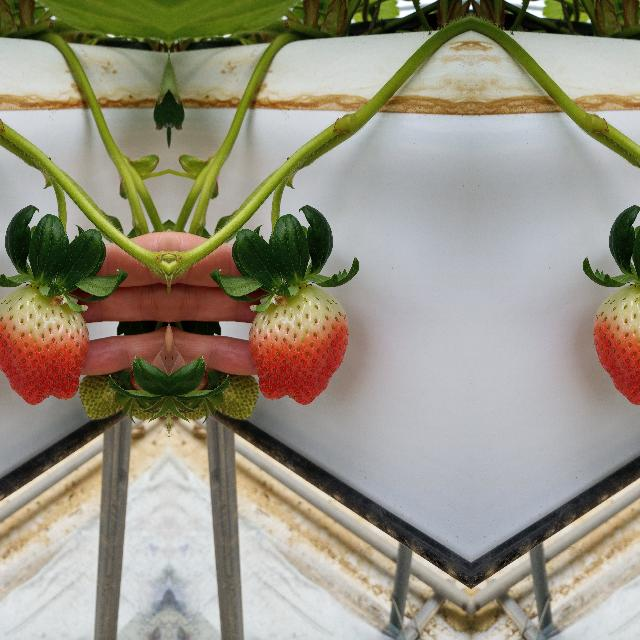Health_75: (248, 284, 348, 404), (0, 283, 88, 404), (592, 283, 640, 404)
